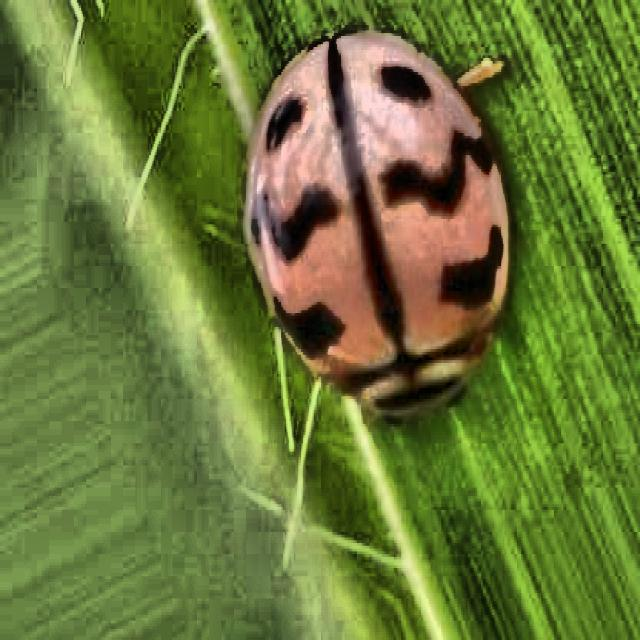Asian-Lady-beetle: (197, 5, 547, 464)
